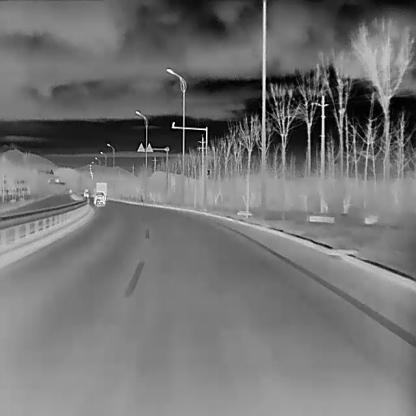car: (94, 181, 107, 198), (93, 191, 106, 205)
